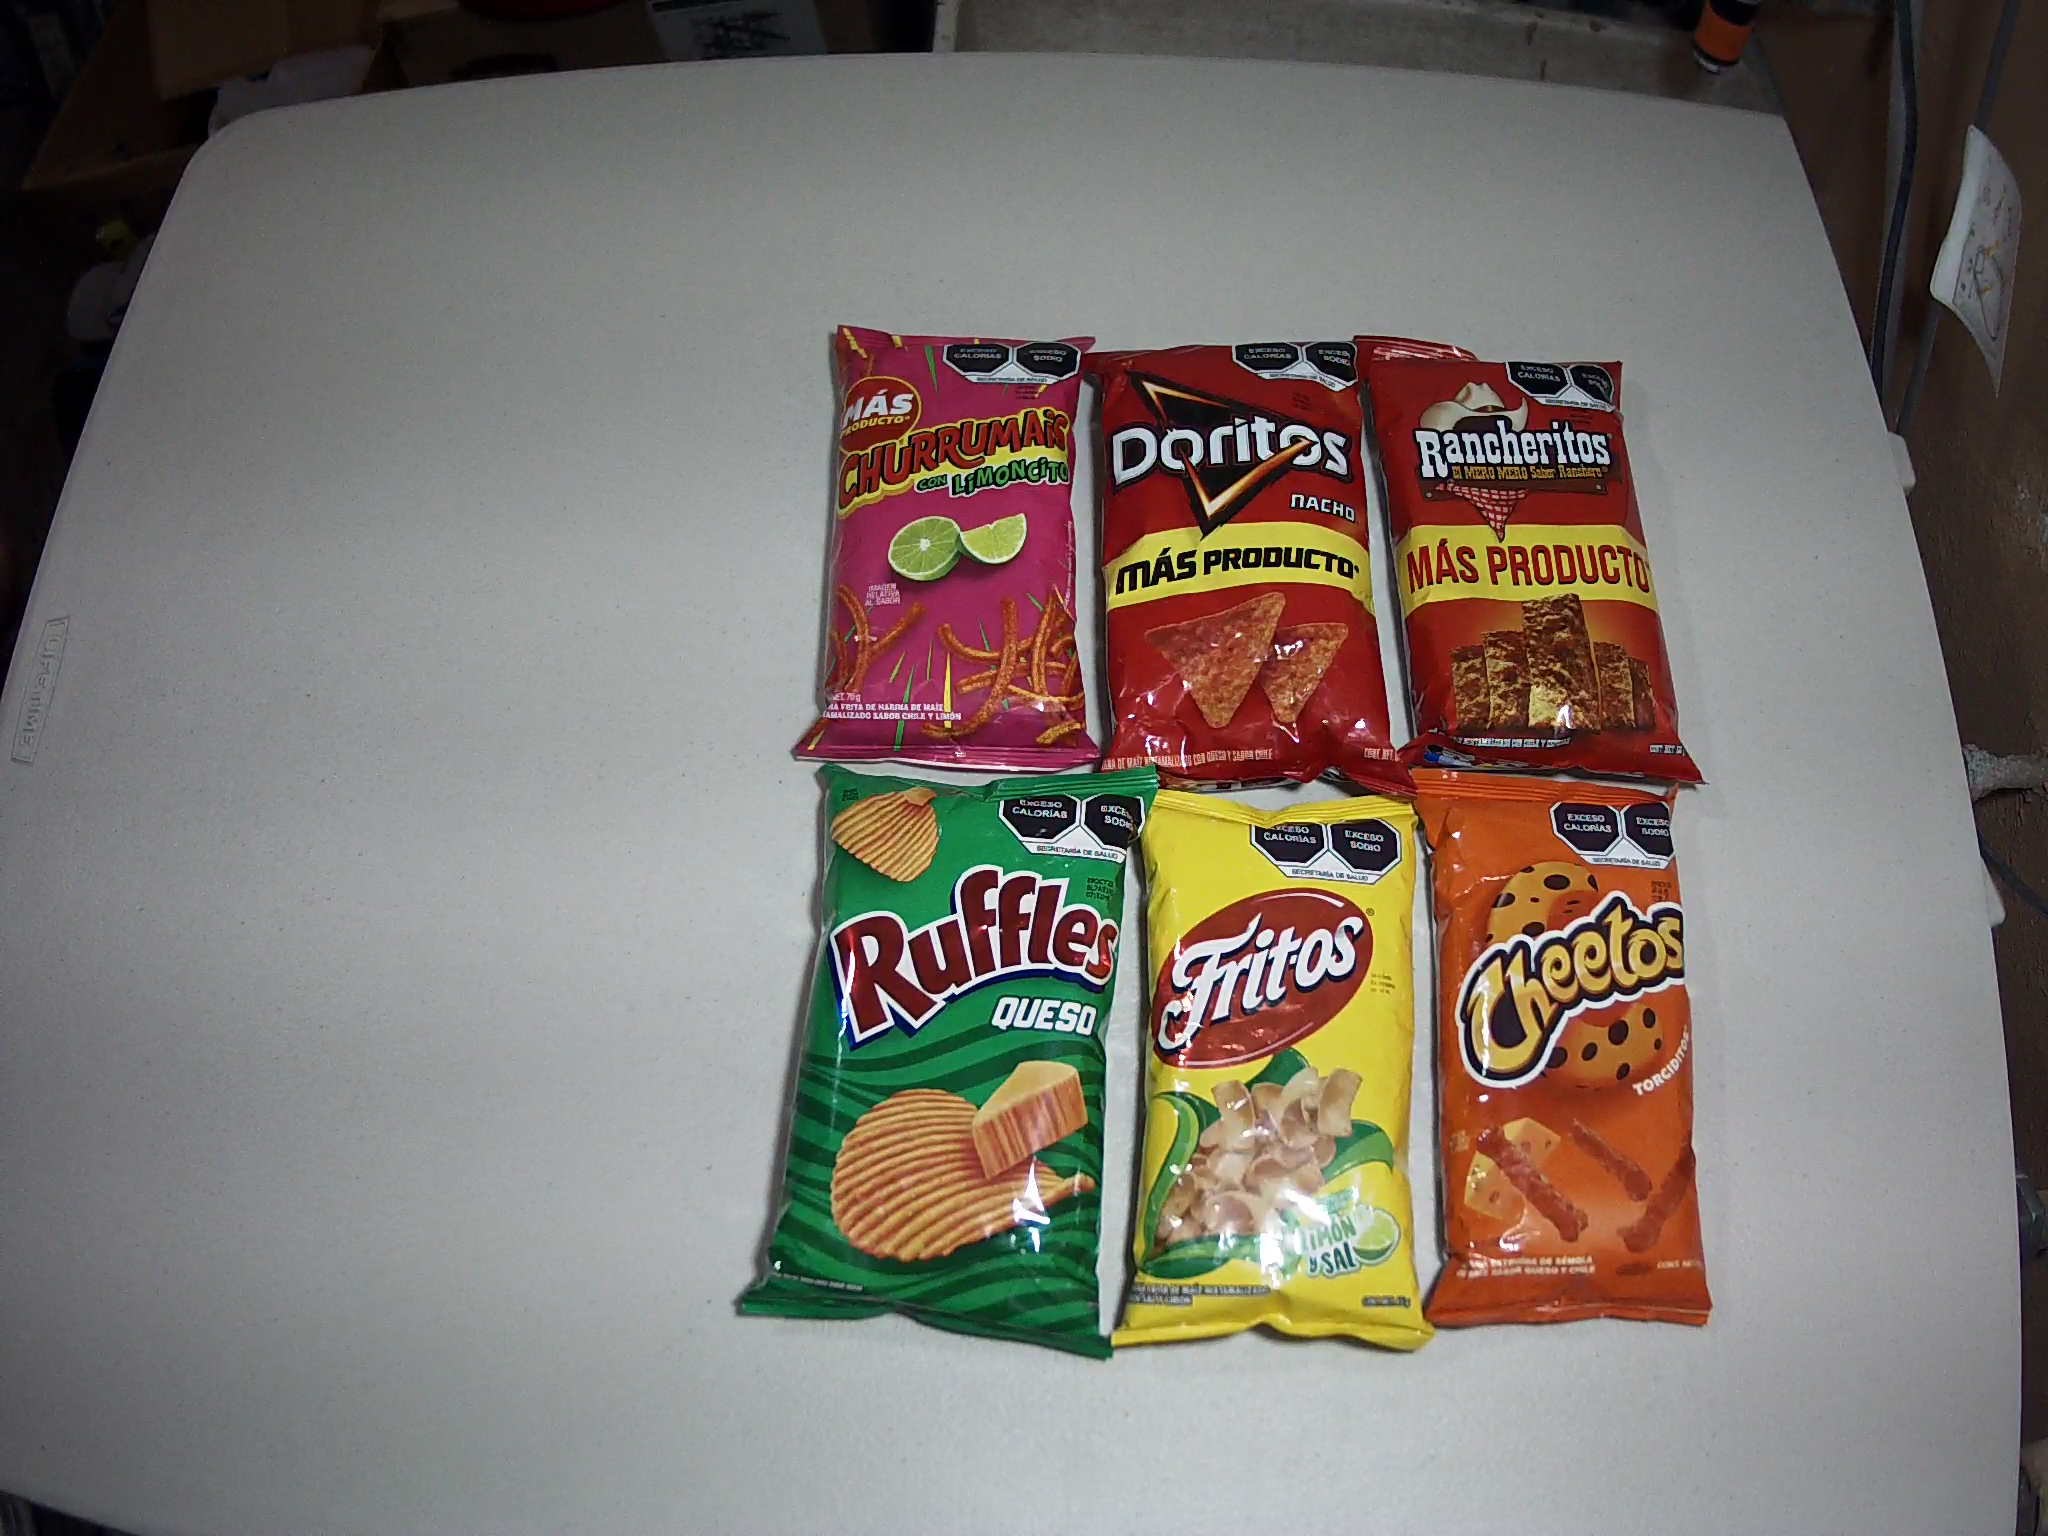CheetosTorciditos_55_F: (1406, 766, 1714, 1326)
Churrumais_70_F: (792, 323, 1098, 768)
DoritosN_61_F: (1079, 344, 1372, 797)
FritosSalLimon_65_F: (1109, 786, 1435, 1355)
Rancheritos_58_F: (1350, 334, 1714, 787)
RufflesQ_48_F: (739, 765, 1151, 1359)
